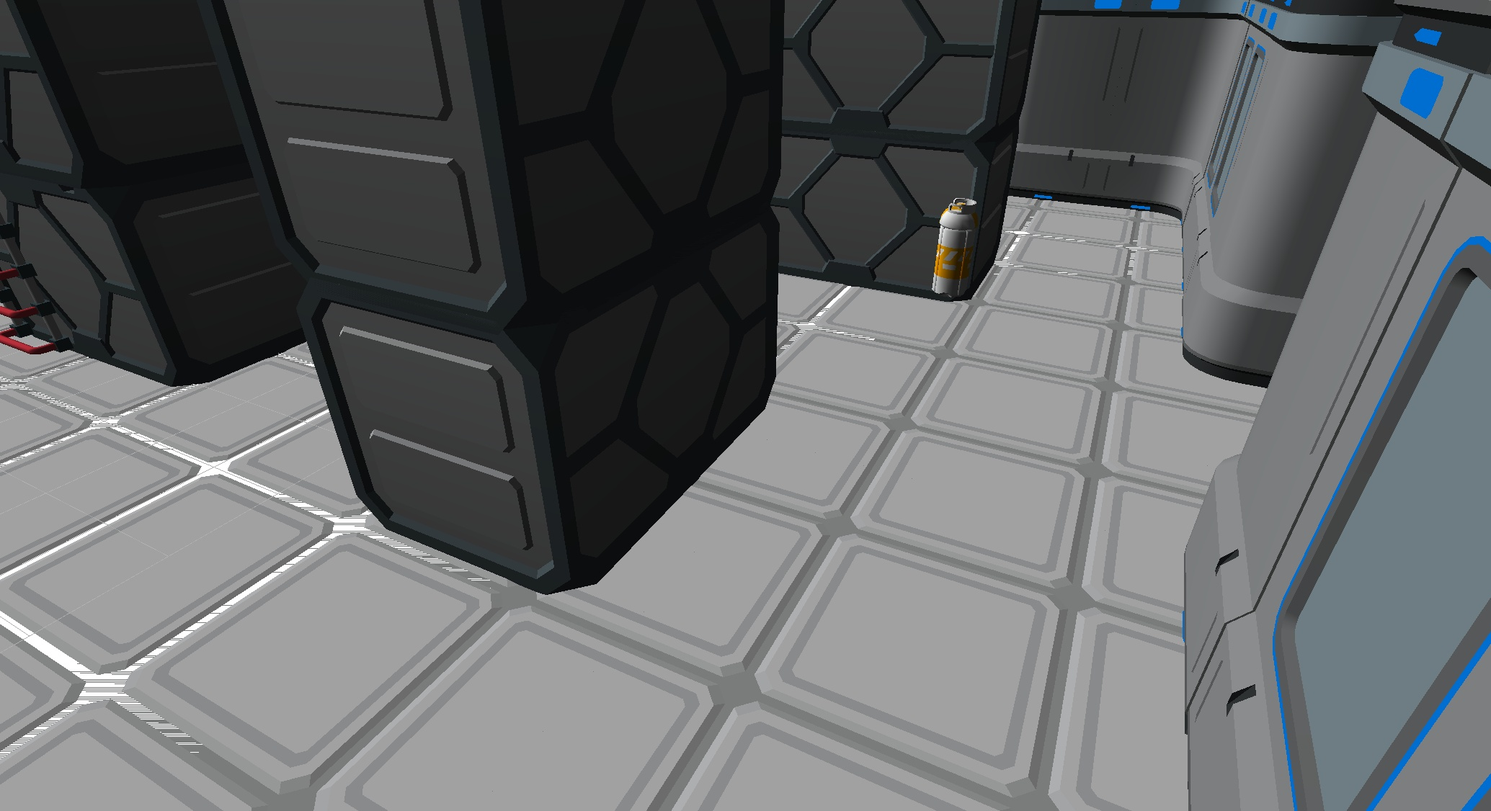yellow_barrel: (933, 197, 978, 300)
